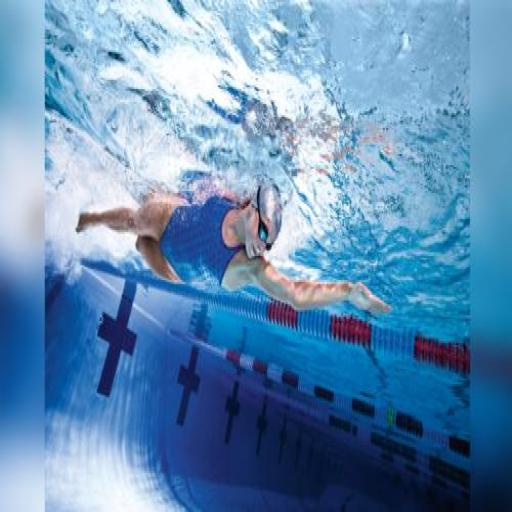swimming: (74, 176, 392, 321)
